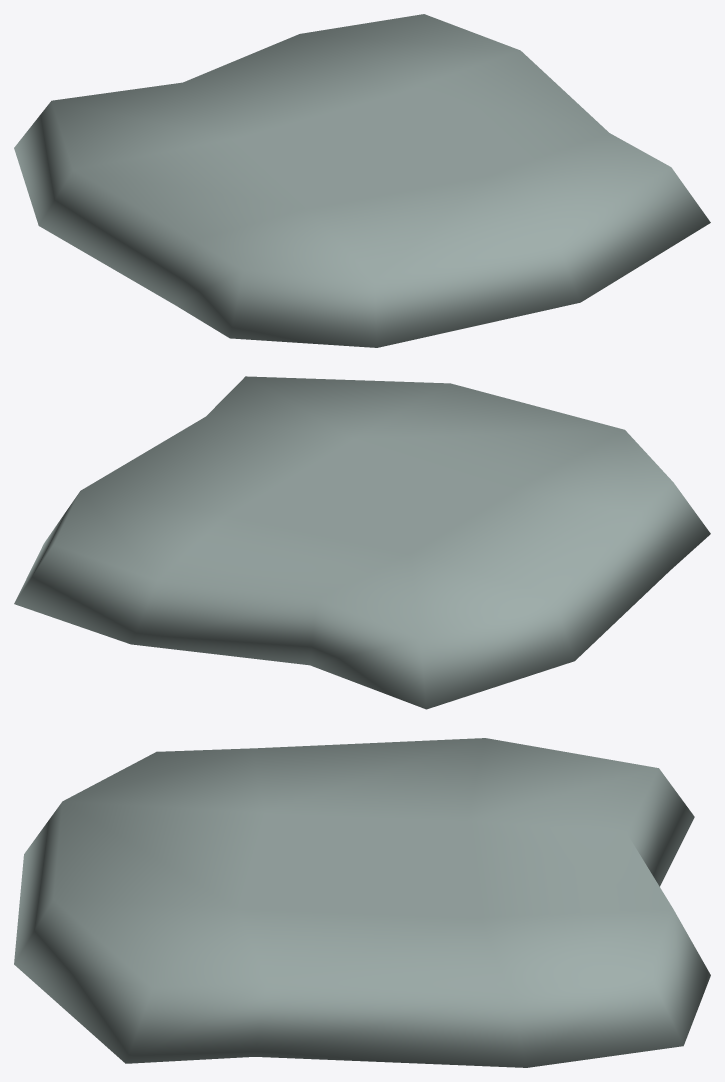
Rendered from desert path3.fbx.
The picture shows the model from 3 angles, top to bottom: view 1: azimuth 30°, elevation 25°; view 2: azimuth 150°, elevation 25°; view 3: azimuth 270°, elevation 25°; orthographic projection. The views are drawn at different scales.
Visible parts, largest first — view 1: desert path3; view 2: desert path3; view 3: desert path3.
Part boxes in pixels (x1,y1,x2,y2): desert path3: (14,14,710,347); desert path3: (14,376,710,709); desert path3: (14,738,710,1067).
Bounding box in the file's own units: 83.63 × 8.32 × 86.45.
